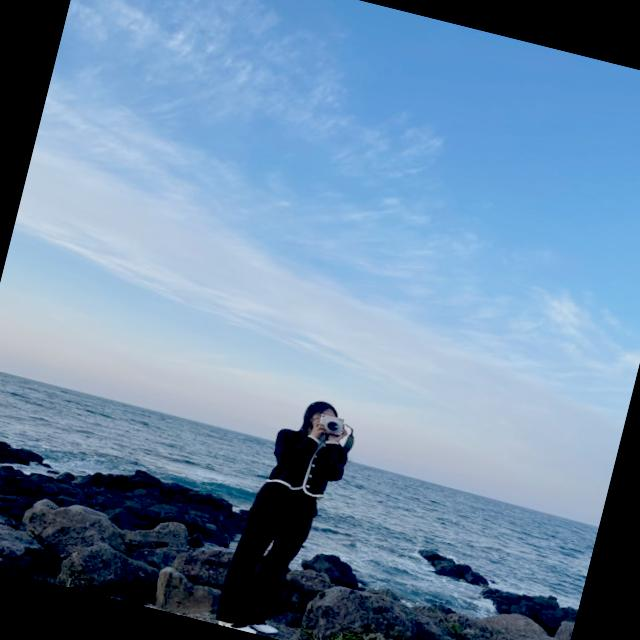cardigan: (263, 425, 355, 502)
slacks: (214, 473, 320, 632)
